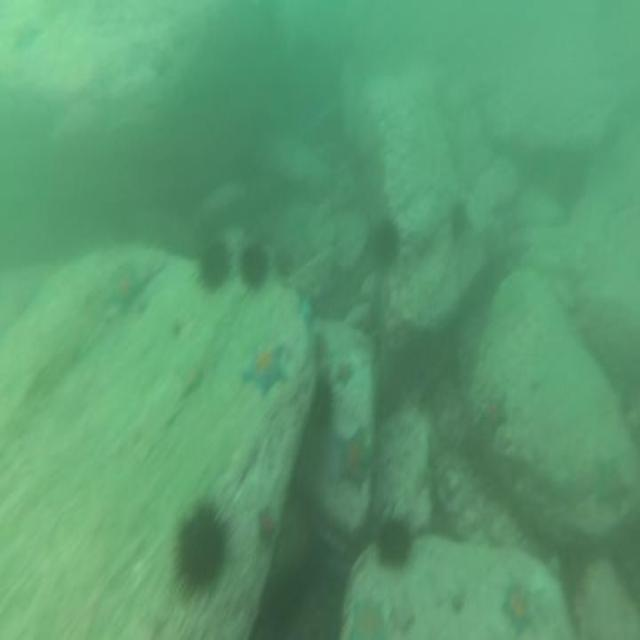echinus: (169, 498, 235, 608), (374, 508, 414, 570), (194, 237, 234, 296), (557, 534, 591, 596), (236, 238, 271, 296), (371, 214, 404, 274), (308, 372, 338, 432), (448, 198, 471, 242), (310, 325, 329, 373)
starfish: (238, 338, 288, 400), (591, 452, 632, 521), (498, 577, 538, 640), (335, 427, 372, 493), (348, 594, 390, 640), (106, 267, 144, 315), (476, 393, 509, 441), (254, 499, 280, 550), (333, 359, 358, 387)
